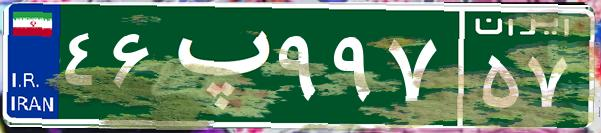4: (57, 26, 110, 107)
5: (475, 38, 525, 113)
6: (110, 28, 158, 105)
7: (385, 28, 445, 110), (525, 38, 570, 115)
9: (273, 28, 330, 110), (330, 28, 385, 110)
پ: (158, 15, 273, 115)
